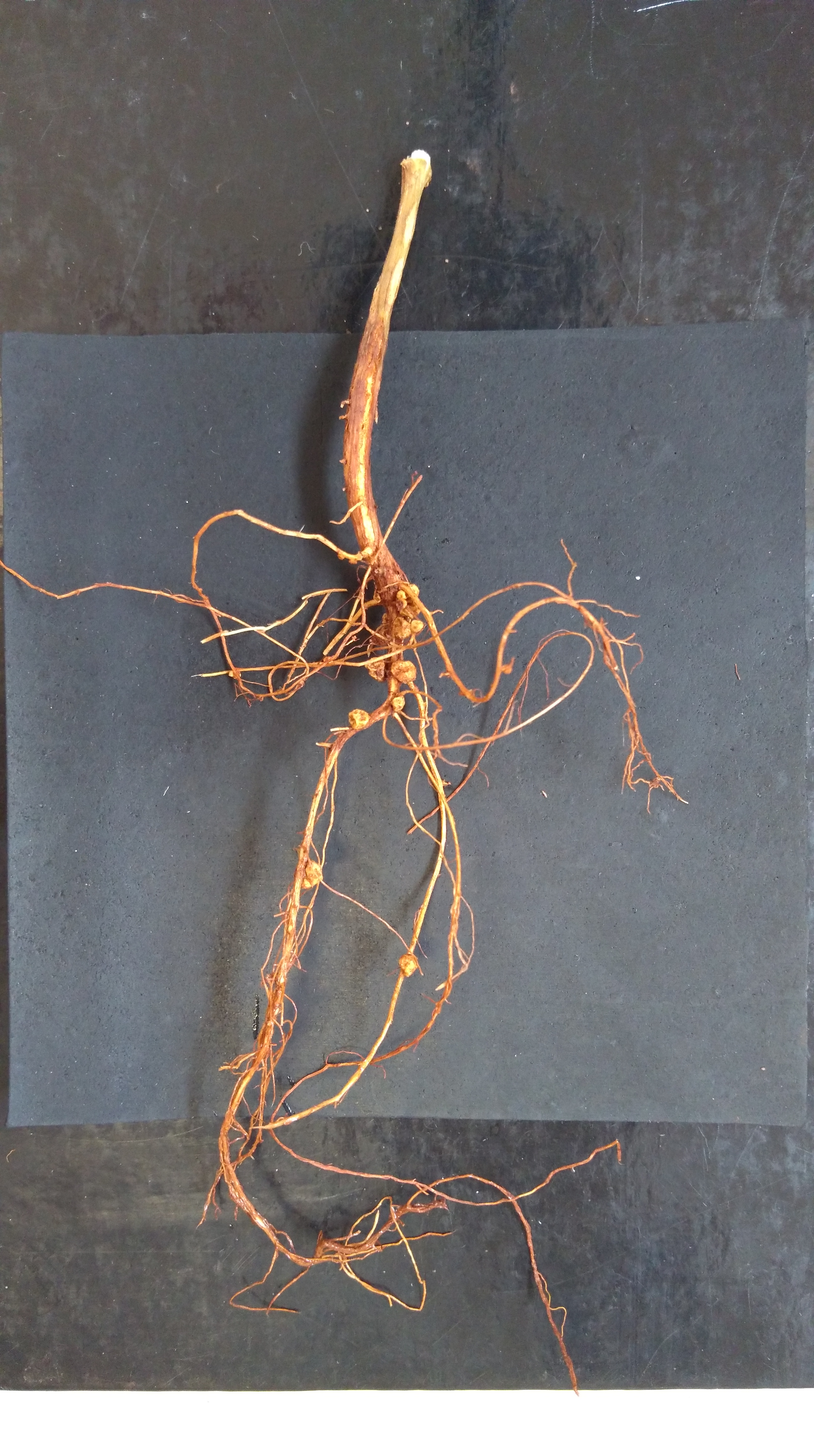nodule: (389, 659, 417, 685), (301, 858, 324, 889), (363, 656, 388, 684), (346, 707, 371, 731), (397, 952, 419, 977), (392, 616, 412, 640), (370, 625, 392, 646), (390, 693, 407, 713), (409, 618, 425, 635), (394, 597, 408, 615), (407, 583, 420, 598), (227, 669, 242, 679), (395, 589, 408, 600), (372, 592, 383, 604), (381, 612, 389, 624), (347, 559, 358, 565), (336, 553, 344, 561)
